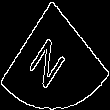N_NE: (32, 22, 78, 88)
